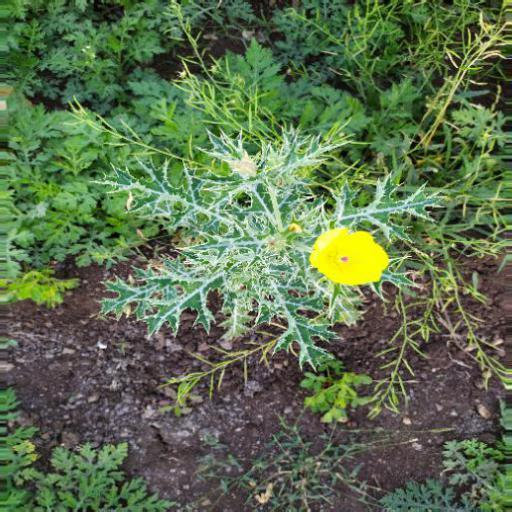weed: (19, 12, 511, 344)
